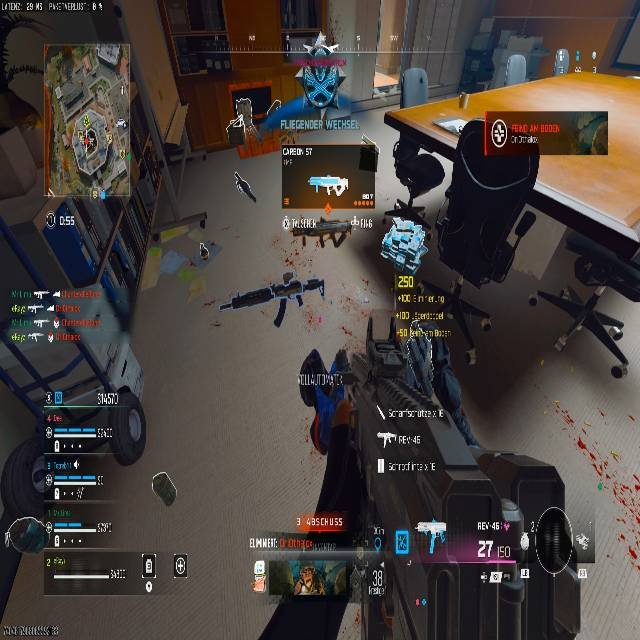head: (282, 270, 294, 282)
player: (296, 63, 344, 124)
